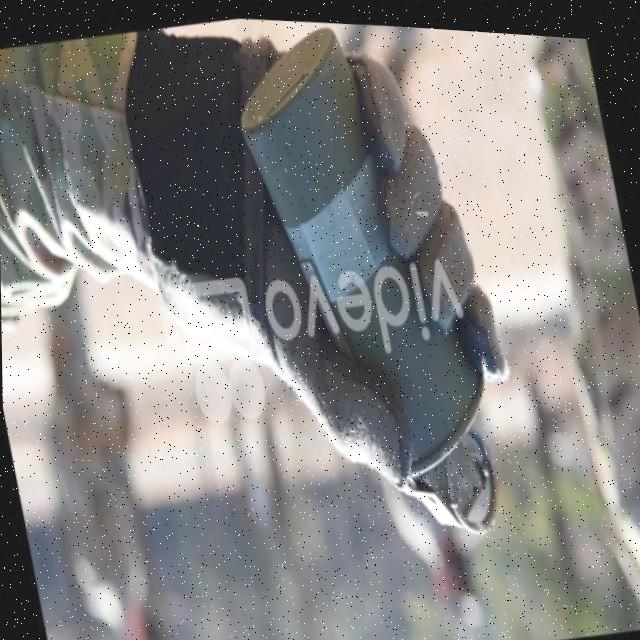grenade: (221, 12, 529, 566)
